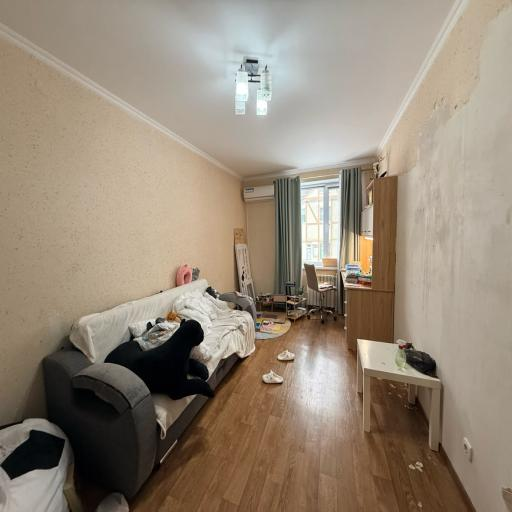bottle: (304, 263, 337, 324)
hole: (43, 273, 259, 511)
phone: (357, 339, 441, 451), (340, 265, 394, 351)
